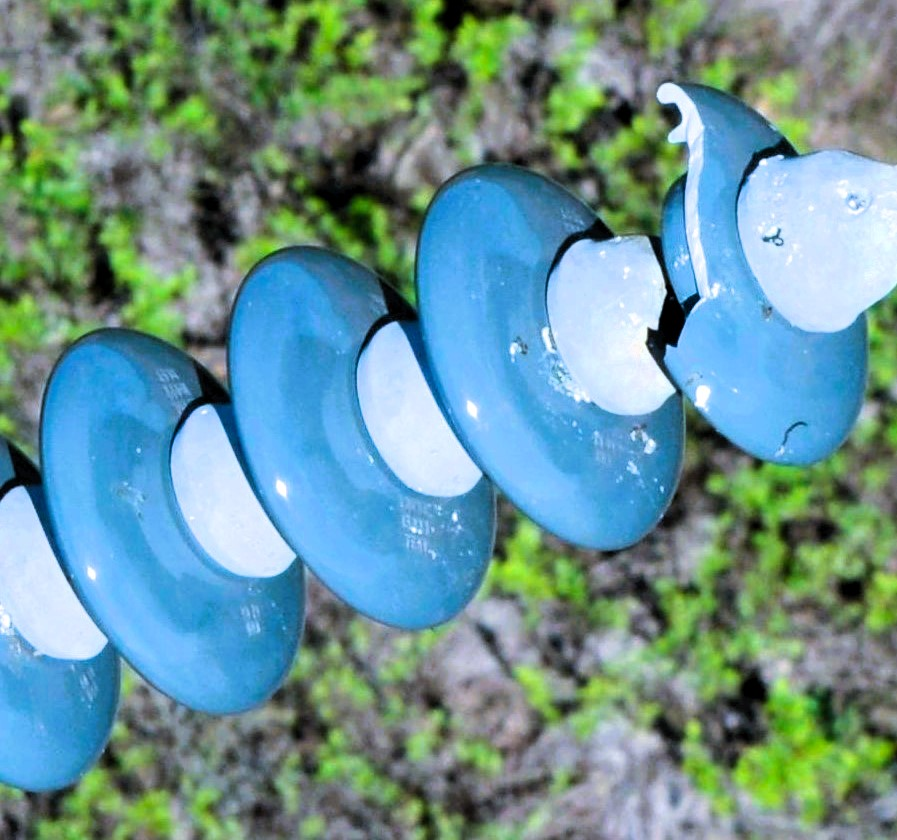insulator breakage: (628, 58, 879, 469)
